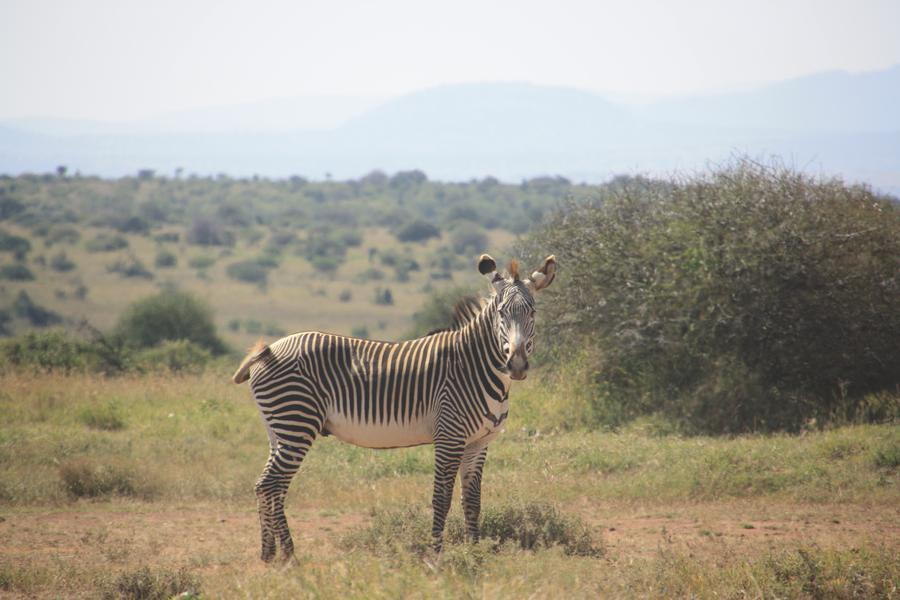zebra_grevys: (248, 326, 487, 437)
